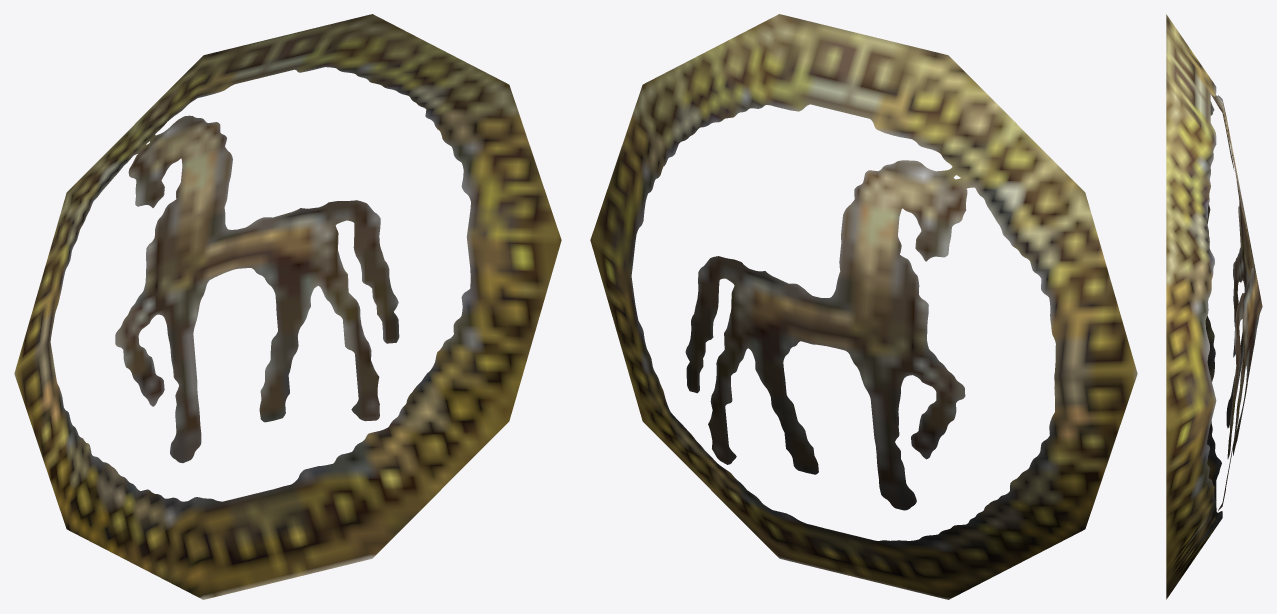
The model's file is kart_wall_tower_2.dae.
3 views of the same model, side by side, from view 1: azimuth 30°, elevation 25°; view 2: azimuth 150°, elevation 25°; view 3: azimuth 270°, elevation 25° (orthographic). The views are drawn at different scales.
Parts seen in each view (by area): view 1: Cylinder18-Pivot; view 2: Cylinder18-Pivot; view 3: Cylinder18-Pivot.
Boxes of the visible parts, x1,y1,x2,y2 form: Cylinder18-Pivot: [14, 14, 561, 599]; Cylinder18-Pivot: [590, 14, 1137, 599]; Cylinder18-Pivot: [1166, 14, 1262, 599].
Size of the model in its own units: 2 by 0.3261 by 1.9.
